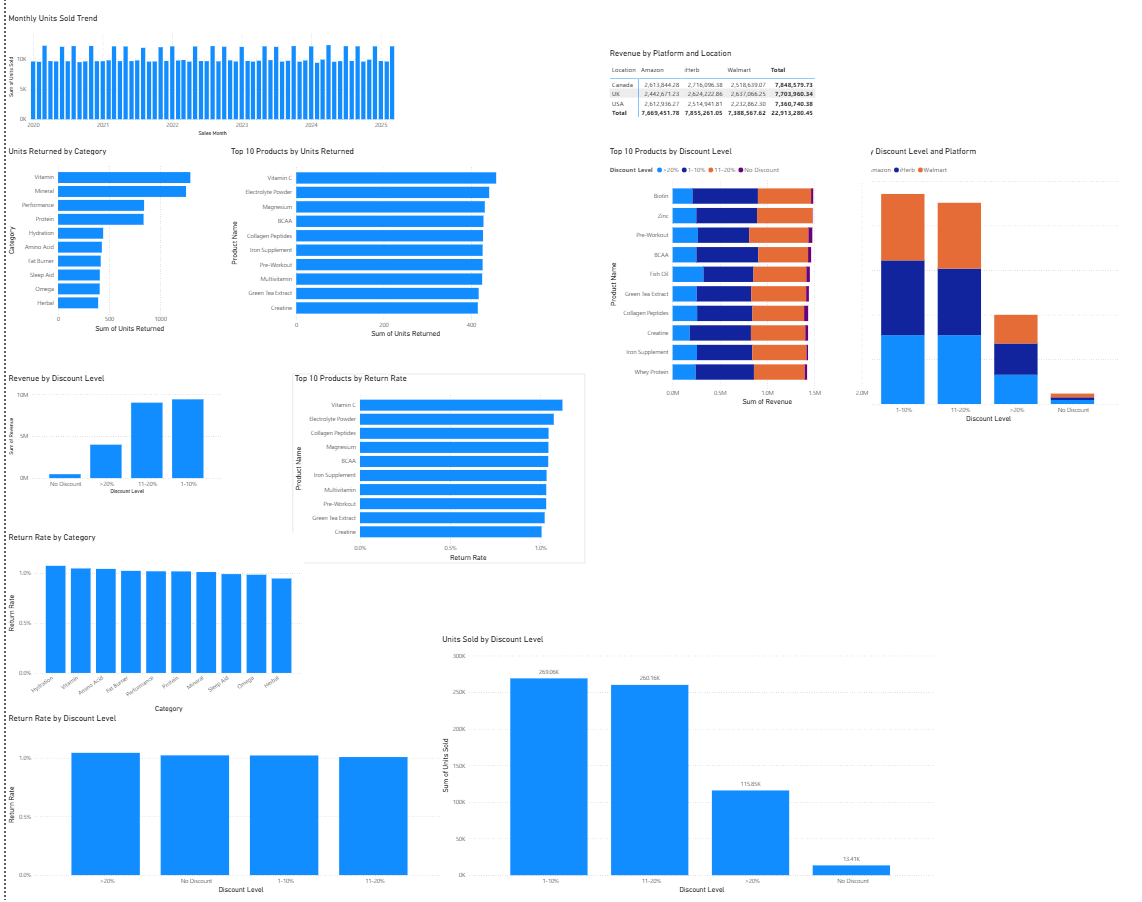

This screenshot's page, from the dashboard's own definition file:
{"tool":"powerbi","page":{"name":"Page 2 — Sales & Return Analysis","canvas":[2450,2000],"ordinal":1},"visuals":[{"type":"barChart","title":"Top 10 Products by Return Rate","fields":{"Y":["sales.Return Rate"],"Category":["sales.Product Name"]},"box":[603.3,826.7,616.7,400],"z":0},{"type":"clusteredColumnChart","title":"Revenue by Discount Level","fields":{"Category":["sales.Discount Level"],"Y":["Sum(sales.Revenue)"]},"box":[0,825,458.3,260],"z":1},{"type":"clusteredColumnChart","title":"Return Rate by Category","fields":{"Category":["sales.Category"],"Y":["sales.Return Rate"]},"box":[0,1160,628,384],"z":2},{"type":"clusteredColumnChart","title":"Return Rate by Discount Level","fields":{"Category":["sales.Discount Level"],"Y":["sales.Return Rate"]},"box":[0,1543.3,932,384],"z":3},{"type":"clusteredColumnChart","title":"Monthly Units Sold Trend","fields":{"Y":["Sum(sales.Units Sold)"],"Category":["sales.Sales Month"]},"box":[0,67.5,832.5,262.5],"z":4},{"type":"barChart","title":"Units Returned by Category","fields":{"Category":["sales.Category"],"Y":["Sum(sales.Units Returned)"]},"box":[0,347.5,423.3,396.7],"z":5},{"type":"clusteredBarChart","title":"Top 10 Products by Units Returned","fields":{"Category":["sales.Product Name"],"Y":["Sum(sales.Units Returned)"]},"box":[467.5,347.5,618.3,408.3],"z":6},{"type":"pivotTable","title":"Revenue by Platform and Location","fields":{"Rows":["sales.Location"],"Columns":["sales.Platform"],"Values":["Sum(sales.Revenue)"]},"box":[1266.7,143.3,465,157.5],"z":7},{"type":"columnChart","title":"Revenue by Discount Level and Platform","fields":{"Category":["sales.Discount Level"],"Y":["Sum(sales.Revenue)"],"Series":["sales.Platform"]},"box":[1733.3,346.7,613.3,586.7],"z":8},{"type":"barChart","title":"Top 10 Products by Discount Level","fields":{"Category":["sales.Product Name"],"Y":["Sum(sales.Revenue)"],"Series":["sales.Discount Level"]},"box":[1266.7,346.7,555,551.7],"z":9},{"type":"clusteredColumnChart","title":"Units Sold by Discount Level","fields":{"Category":["sales.Discount Level"],"Y":["Sum(sales.Units Sold)"]},"box":[913.3,1376.7,1045,550],"z":10}]}

Visuals, with their boxes on the page's 2450x2000 design canvas (x1, y1, x2, y2). These are canvas units, not pixel positions in the 1142x902 screenshot, which may show the page scaled, cropped or inside an application window:
"Top 10 Products by Return Rate" barChart: 603 827 1220 1227
"Revenue by Discount Level" clusteredColumnChart: 0 825 458 1085
"Return Rate by Category" clusteredColumnChart: 0 1160 628 1544
"Return Rate by Discount Level" clusteredColumnChart: 0 1543 932 1927
"Monthly Units Sold Trend" clusteredColumnChart: 0 68 832 330
"Units Returned by Category" barChart: 0 348 423 744
"Top 10 Products by Units Returned" clusteredBarChart: 468 348 1086 756
"Revenue by Platform and Location" pivotTable: 1267 143 1732 301
"Revenue by Discount Level and Platform" columnChart: 1733 347 2347 933
"Top 10 Products by Discount Level" barChart: 1267 347 1822 898
"Units Sold by Discount Level" clusteredColumnChart: 913 1377 1958 1927
